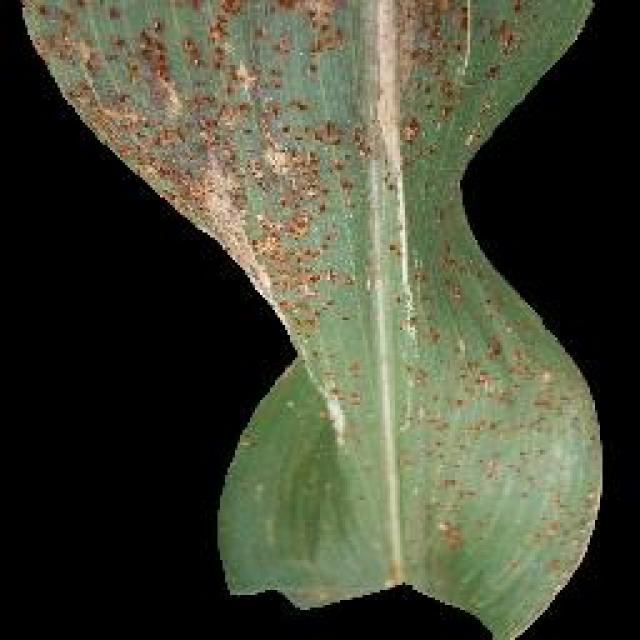Corn Common Rust: (233, 113, 557, 587)
